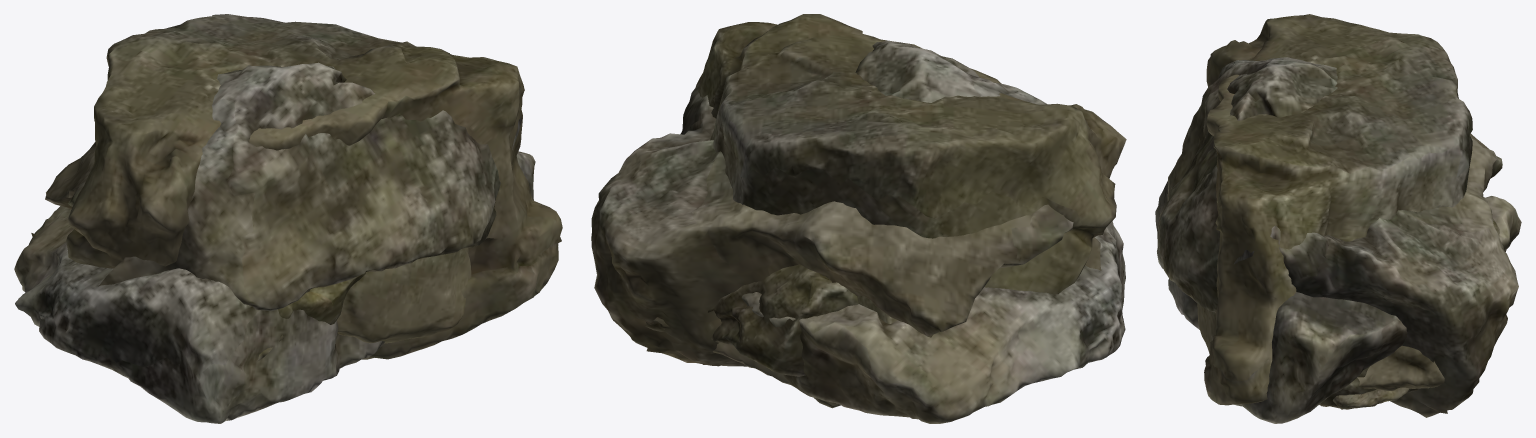
Rendered from rocks_scan.glb.
The picture shows the model from 3 angles, left to right: view 1: azimuth 30°, elevation 25°; view 2: azimuth 150°, elevation 25°; view 3: azimuth 270°, elevation 25°; orthographic projection. The views are drawn at different scales.
Visible parts, largest first — view 1: Scan6, Scan4, Scan3, Scan0, Scan5; view 2: Scan6, Scan4, Scan3, Scan5, Scan0; view 3: Scan6, Scan4, Scan3, Scan0, Scan2, Scan5.
Boxes of the visible parts, bbox=[...] form: Scan6: bbox=[66, 14, 562, 359]; Scan4: bbox=[45, 62, 521, 311]; Scan3: bbox=[14, 151, 535, 423]; Scan0: bbox=[337, 247, 471, 343]; Scan5: bbox=[257, 272, 365, 361]; Scan6: bbox=[696, 14, 1126, 408]; Scan4: bbox=[591, 40, 1101, 366]; Scan3: bbox=[741, 221, 1125, 423]; Scan5: bbox=[645, 264, 858, 376]; Scan0: bbox=[713, 295, 897, 384]; Scan6: bbox=[1204, 14, 1472, 405]; Scan4: bbox=[1158, 57, 1518, 417]; Scan3: bbox=[1155, 181, 1521, 423]; Scan0: bbox=[1197, 304, 1444, 390]; Scan2: bbox=[1333, 387, 1410, 409]; Scan5: bbox=[1319, 218, 1503, 409].
Size of the model in its own units: 2.2 by 1.31 by 1.55.
1 material, 1 textured.
